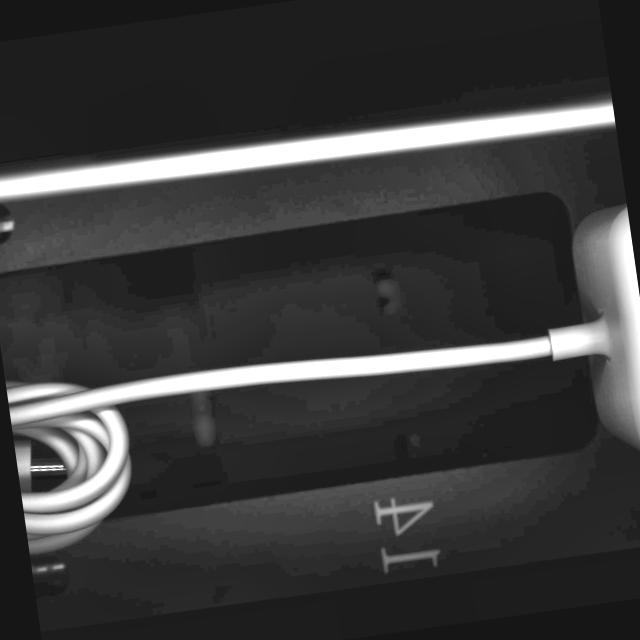Cable: (0, 198, 640, 557)
